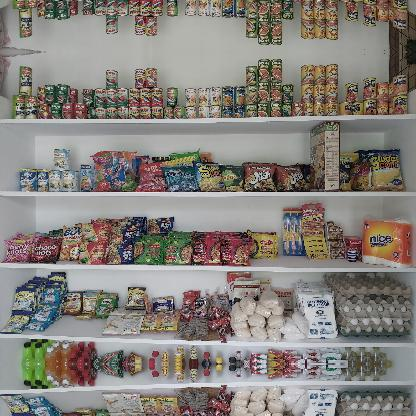Koko-Krunch: (308, 121, 340, 191)
